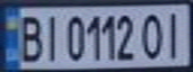0: (63, 11, 84, 62)
1: (84, 11, 103, 61), (100, 11, 118, 61)
2: (115, 10, 139, 61)
B: (15, 11, 45, 63)
I: (160, 8, 190, 60), (39, 11, 63, 62)
O: (139, 10, 166, 60)
